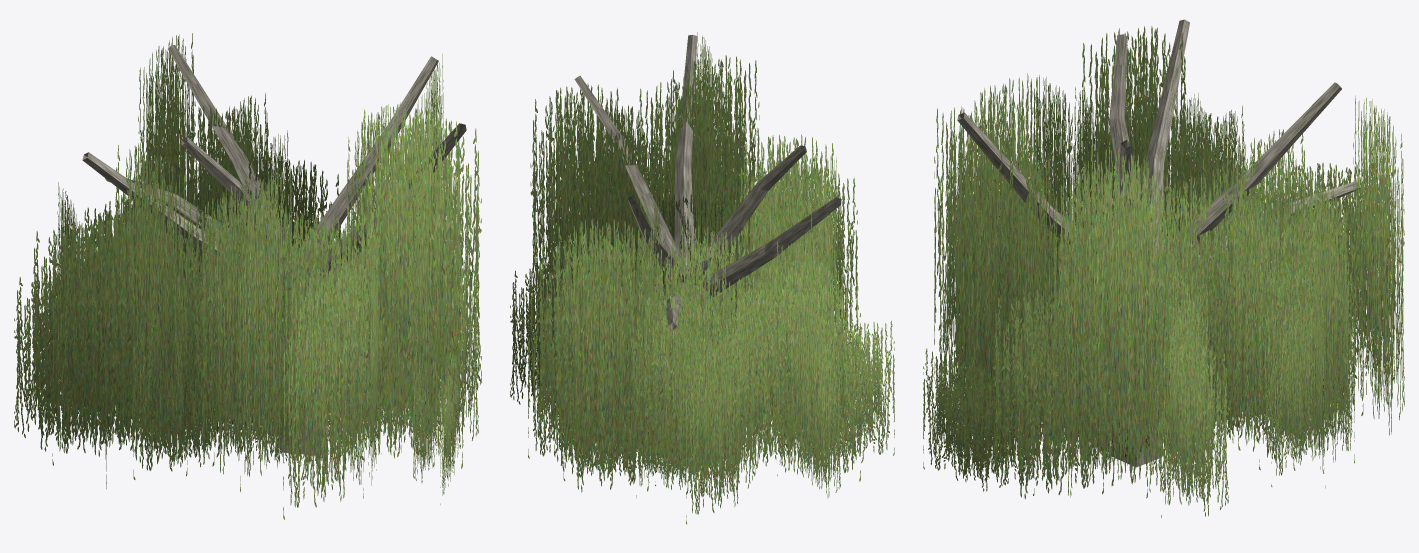
Rendered from Tree_Willow_1_LOD2.gltf.
3 renders of one model, left to right at view 1: azimuth 30°, elevation 25°; view 2: azimuth 150°, elevation 25°; view 3: azimuth 270°, elevation 25°, orthographic. The views are drawn at different scales.
Visible parts, largest first — view 1: Tree_Willow_1_LOD2; view 2: Tree_Willow_1_LOD2; view 3: Tree_Willow_1_LOD2.
Boxes of the visible parts, bbox=[...] form: Tree_Willow_1_LOD2: bbox=[14, 33, 481, 519]; Tree_Willow_1_LOD2: bbox=[510, 32, 894, 524]; Tree_Willow_1_LOD2: bbox=[923, 19, 1404, 517].
Bounding box in the file's own units: 11.69 × 11.18 × 11.95.
2 materials, 2 textured.
